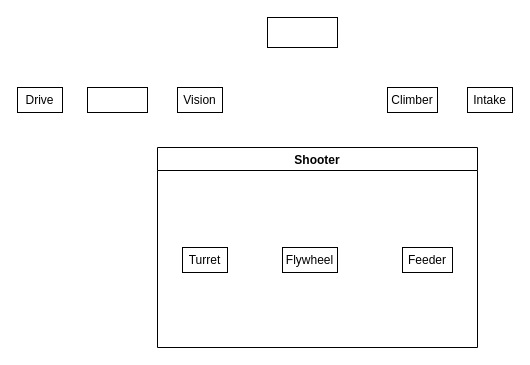
Image size: 530x365. Some labels were removed from this diagram. Each missing label, with the centre of its shape:
Conveyor: point 117,99
Drive Team: point 302,32
